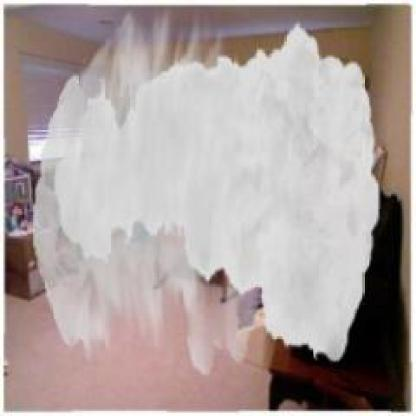Smoke: (33, 8, 381, 375)
